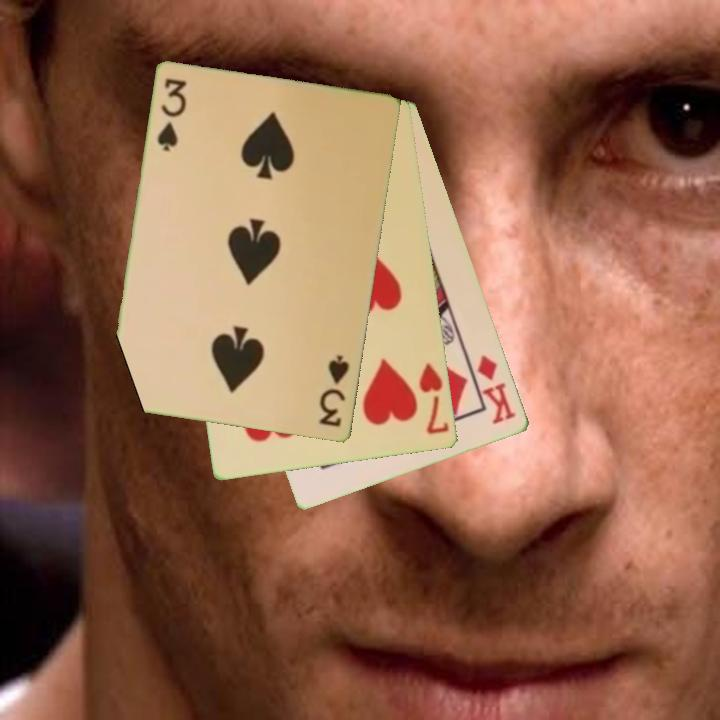3s: (315, 352, 352, 431), (154, 75, 190, 155)
7h: (416, 360, 452, 438)
Kd: (474, 352, 520, 427)
